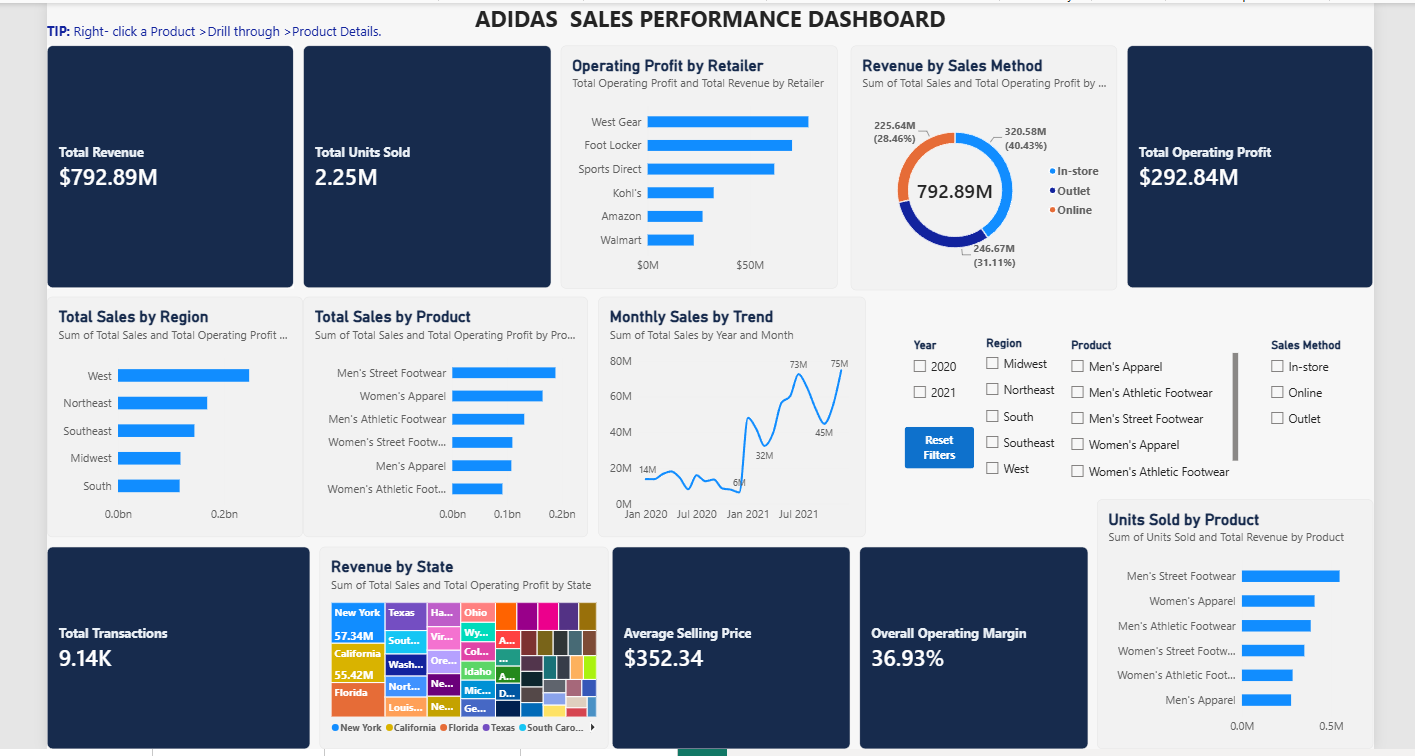

Layout of this report page (visuals, bound fields, positions):
{"tool":"powerbi","page":{"name":"Sales Overview","canvas":[1920,1080],"ordinal":0},"visuals":[{"type":"cardVisual","fields":{"Data":["Data Sales Adidas.Total Revenue"]},"box":[0,61.4,357.9,351.8],"z":0},{"type":"cardVisual","fields":{"Data":["Data Sales Adidas.Total Units Sold","Data Sales Adidas.Total Units Sold"]},"box":[370.2,61.4,360,351.8],"z":1},{"type":"cardVisual","fields":{"Data":["Data Sales Adidas.Total Operating Profit"]},"box":[1563.5,61.5,356.5,351.1],"z":2},{"type":"cardVisual","fields":{"Data":["Data Sales Adidas.Total Transactions"]},"box":[0,787.2,381.8,293.2],"z":3},{"type":"cardVisual","fields":{"Data":["Data Sales Adidas.Average Selling Price"]},"box":[818,787.2,345.6,293.2],"z":4},{"type":"cardVisual","fields":{"Data":["Data Sales Adidas.Overall Operating Margin"]},"box":[1176.3,787.2,331.2,293.2],"z":5},{"type":"textbox","box":[0,0,1920.4,51.1],"z":6},{"type":"clusteredBarChart","title":"Total Sales by Region","fields":{"Category":["Data Sales Adidas.Region"],"Y":["Sum(Data Sales Adidas.Total Sales)"]},"box":[0,425.3,370.5,347.9],"z":7},{"type":"clusteredBarChart","title":"Total Sales by Product","fields":{"Category":["Data Sales Adidas.Product"],"Y":["Sum(Data Sales Adidas.Total Sales)"]},"box":[371,425.3,411.7,347.9],"z":8},{"type":"lineChart","title":"Monthly Sales by Trend","fields":{"Category":["Data Sales Adidas.Invoice Date.Variation.Date Hierarchy.Year","Data Sales Adidas.Invoice Date.Variation.Date Hierarchy.Month"],"Y":["Sum(Data Sales Adidas.Total Sales)"]},"box":[798.1,425.3,387,347.9],"z":9},{"type":"slicer","fields":{"Values":["Data Sales Adidas.Invoice Date.Variation.Date Hierarchy.Year"]},"box":[1246.9,485,95.9,141.2],"z":10},{"type":"slicer","fields":{"Values":["Data Sales Adidas.Region"]},"box":[1351.8,481.4,128.5,215.3],"z":11},{"type":"slicer","fields":{"Values":["Data Sales Adidas.Sales Method"]},"box":[1764.4,485,126.7,141.2],"z":12},{"type":"slicer","fields":{"Values":["Data Sales Adidas.Product"]},"box":[1474.9,485,249.7,209.9],"z":13},{"type":"clusteredBarChart","title":"Operating Profit by Retailer","fields":{"Category":["Data Sales Adidas.Retailer"],"Y":["Data Sales Adidas.Total Operating Profit"]},"box":[744.4,61.4,400.9,351.8],"z":14},{"type":"donutChart","title":"Revenue by Sales Method","fields":{"Category":["Data Sales Adidas.Sales Method"],"Y":["Sum(Data Sales Adidas.Total Sales)"]},"box":[1163.6,61.5,385.5,354.7],"z":15},{"type":"clusteredBarChart","title":"Units Sold by Product","fields":{"Category":["Data Sales Adidas.Product"],"Y":["Sum(Data Sales Adidas.Units Sold)"]},"box":[1520.1,718.4,399.9,361.9],"z":16},{"type":"treemap","title":"Revenue by State","fields":{"Group":["Data Sales Adidas.State"],"Values":["Sum(Data Sales Adidas.Total Sales)"]},"box":[394.5,787.2,418,293.2],"z":17},{"type":"actionButton","box":[1241.4,613.5,100.9,60.6],"z":18},{"type":"textbox","box":[0,26.6,928.5,34.8],"z":19}]}

Visuals, with their boxes in screenshot pixels (x1, y1, x2, y2):
cardVisual - Data Sales Adidas.Total Revenue: [left=44, top=42, right=291, bottom=285]
cardVisual - Data Sales Adidas.Total Units Sold x Data Sales Adidas.Total Units Sold: [left=300, top=42, right=548, bottom=285]
cardVisual - Data Sales Adidas.Total Operating Profit: [left=1123, top=42, right=1369, bottom=285]
cardVisual - Data Sales Adidas.Total Transactions: [left=44, top=543, right=308, bottom=745]
cardVisual - Data Sales Adidas.Average Selling Price: [left=608, top=543, right=847, bottom=745]
cardVisual - Data Sales Adidas.Overall Operating Margin: [left=856, top=543, right=1084, bottom=745]
textbox: [left=44, top=0, right=1369, bottom=35]
"Total Sales by Region" clusteredBarChart: [left=44, top=293, right=300, bottom=533]
"Total Sales by Product" clusteredBarChart: [left=300, top=293, right=584, bottom=533]
"Monthly Sales by Trend" lineChart: [left=595, top=293, right=862, bottom=533]
slicer - Data Sales Adidas.Invoice Date.Variation.Date Hierarchy.Year: [left=904, top=335, right=970, bottom=432]
slicer - Data Sales Adidas.Region: [left=977, top=332, right=1065, bottom=481]
slicer - Data Sales Adidas.Sales Method: [left=1261, top=335, right=1349, bottom=432]
slicer - Data Sales Adidas.Product: [left=1062, top=335, right=1234, bottom=479]
"Operating Profit by Retailer" clusteredBarChart: [left=558, top=42, right=834, bottom=285]
"Revenue by Sales Method" donutChart: [left=847, top=42, right=1113, bottom=287]
"Units Sold by Product" clusteredBarChart: [left=1093, top=496, right=1369, bottom=745]
"Revenue by State" treemap: [left=316, top=543, right=605, bottom=745]
actionButton: [left=901, top=423, right=970, bottom=465]
textbox: [left=44, top=18, right=685, bottom=42]
